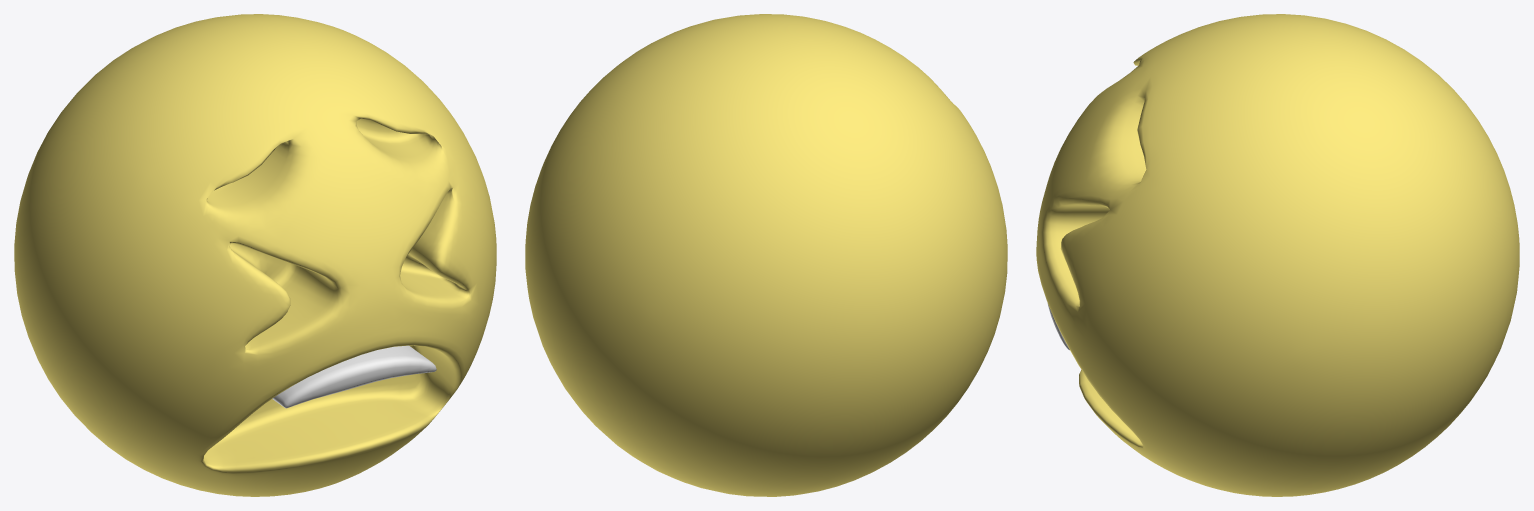
Rendered from 87_yawn.glb.
The picture shows the model from 3 angles, left to right: view 1: azimuth 30°, elevation 25°; view 2: azimuth 150°, elevation 25°; view 3: azimuth 270°, elevation 25°; orthographic projection.
Parts seen in each view (by area): view 1: Group3677.001, Group46811.001; view 2: Group3677.001; view 3: Group3677.001.
Part boxes in pixels (bbox=[...]): Group3677.001: bbox=[14, 14, 496, 496]; Group46811.001: bbox=[272, 345, 436, 408]; Group3677.001: bbox=[525, 14, 1007, 496]; Group3677.001: bbox=[1036, 14, 1519, 496].
Size of the model in its own units: 0.5951 by 0.5955 by 0.5956.
